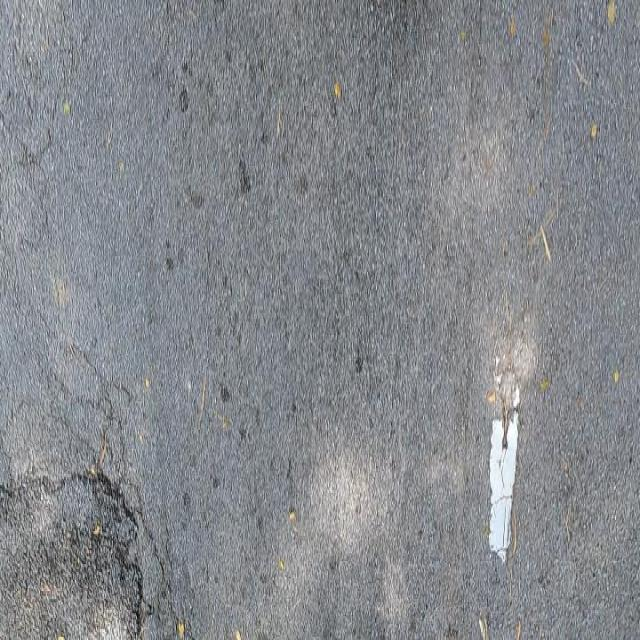cracks: (5, 300, 177, 640), (2, 0, 113, 256)
